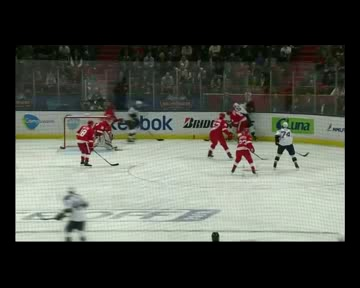normal: (199, 106, 313, 174), (74, 111, 121, 172)
